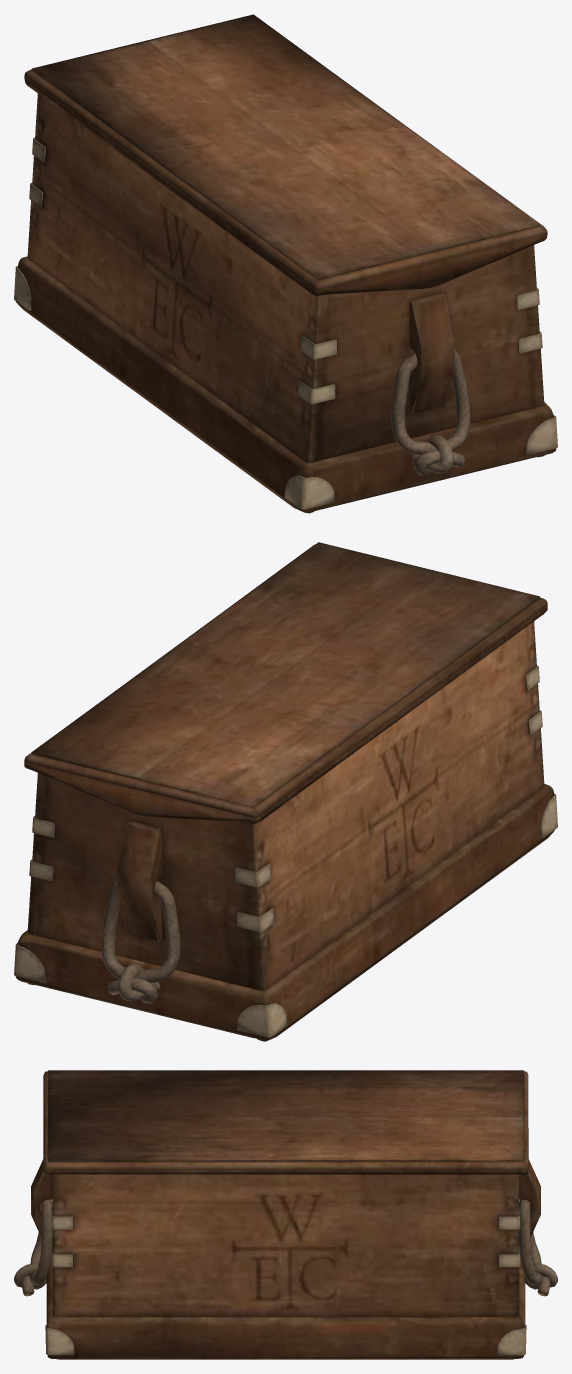
File: wooden_crate_02.glb
3 renders of one model, top to bottom at view 1: azimuth 30°, elevation 25°; view 2: azimuth 150°, elevation 25°; view 3: azimuth 270°, elevation 25°, orthographic. The views are drawn at different scales.
Parts seen in each view (by area): view 1: wooden_crate_02_crate; view 2: wooden_crate_02_crate; view 3: wooden_crate_02_crate.
Boxes of the visible parts, x1,y1,x2,y2 form: wooden_crate_02_crate: [14, 14, 557, 513]; wooden_crate_02_crate: [14, 542, 557, 1041]; wooden_crate_02_crate: [14, 1070, 557, 1359].
Bounding box in the file's own units: 0.5291 × 0.4639 × 1.17.
Materials: 1 (1 with a texture image).
